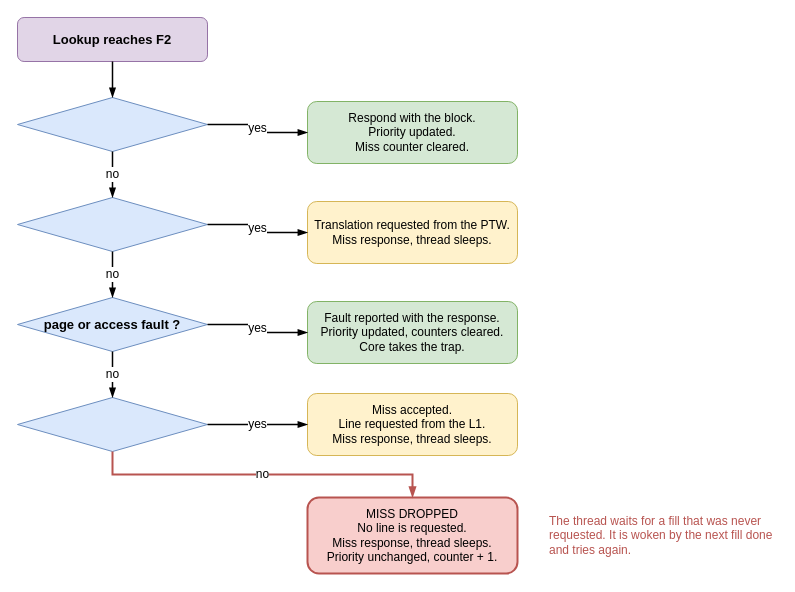
This 795x592 diagram has some shape labels left out. The shapes that lost their labels are listed below. From the top down, each one's centre as x and y in pixels, then its label:
[112,124]: f2_hit ?
[112,224]: TLB miss ?
[112,424]: f0_miss_state == Ready ?
